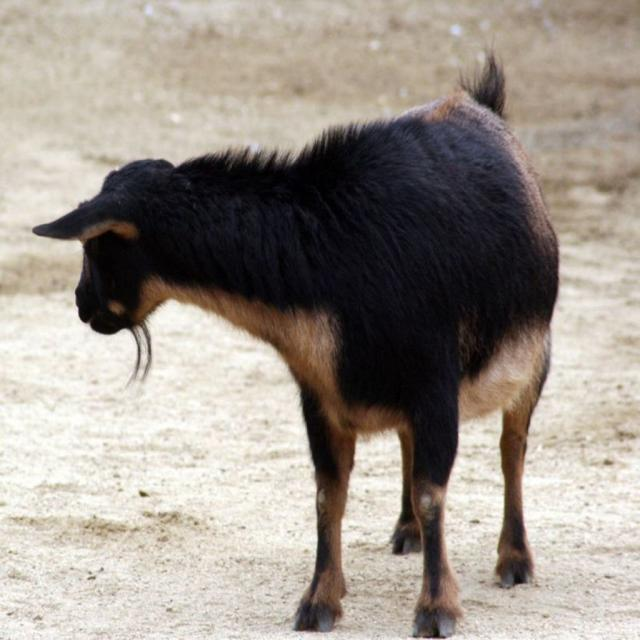Goat: (26, 42, 564, 639)
